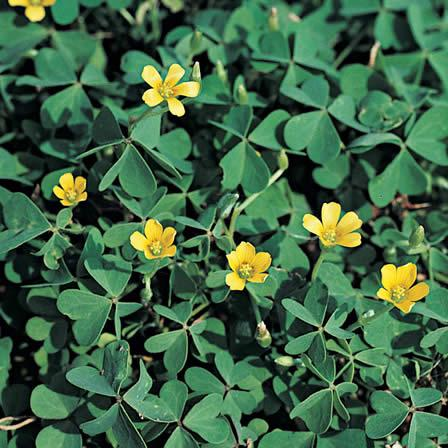clover: (63, 339, 153, 448), (92, 104, 185, 198), (56, 253, 144, 346), (279, 77, 370, 164), (137, 377, 231, 448), (280, 282, 356, 366), (143, 299, 228, 374), (363, 374, 448, 447)
yellow wood sorrel: (140, 62, 201, 118), (301, 200, 362, 252), (375, 262, 430, 315), (224, 239, 272, 290), (128, 218, 178, 263), (52, 171, 89, 207), (7, 1, 56, 22)
